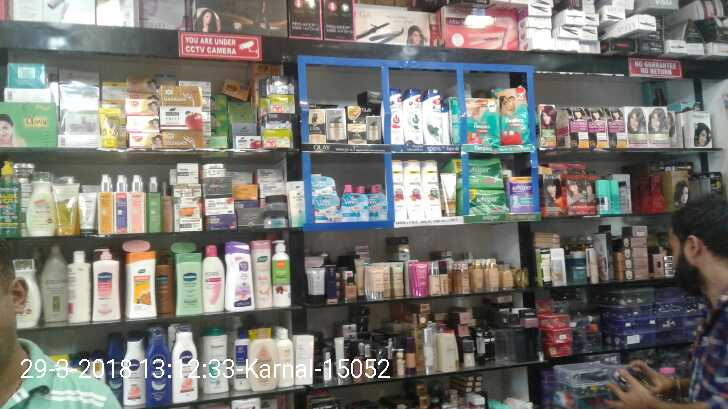venus: (341, 193, 369, 222), (312, 194, 341, 222), (312, 175, 337, 194), (369, 194, 386, 221)
